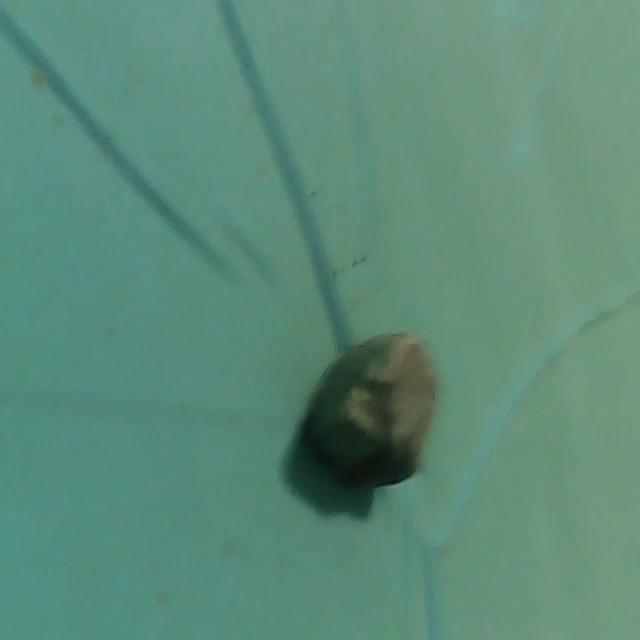rock: (294, 320, 450, 496)
